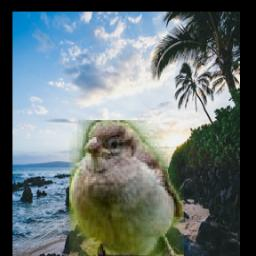Sparrow: (70, 120, 185, 256)
